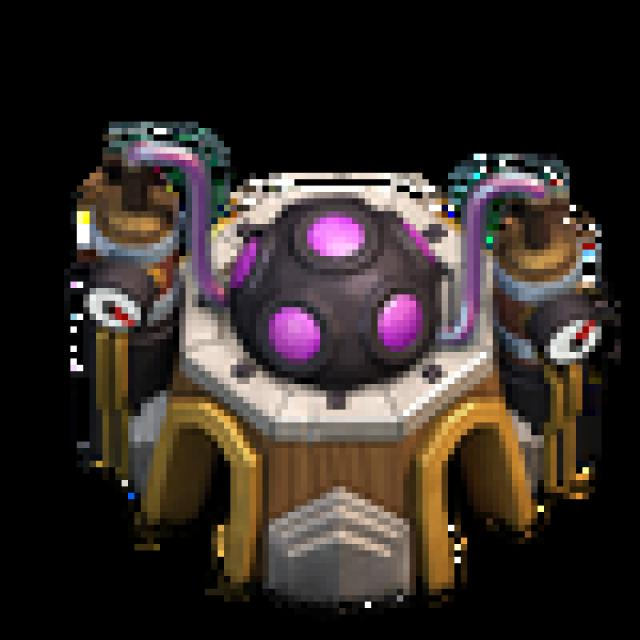laboratory: (52, 112, 624, 617)
